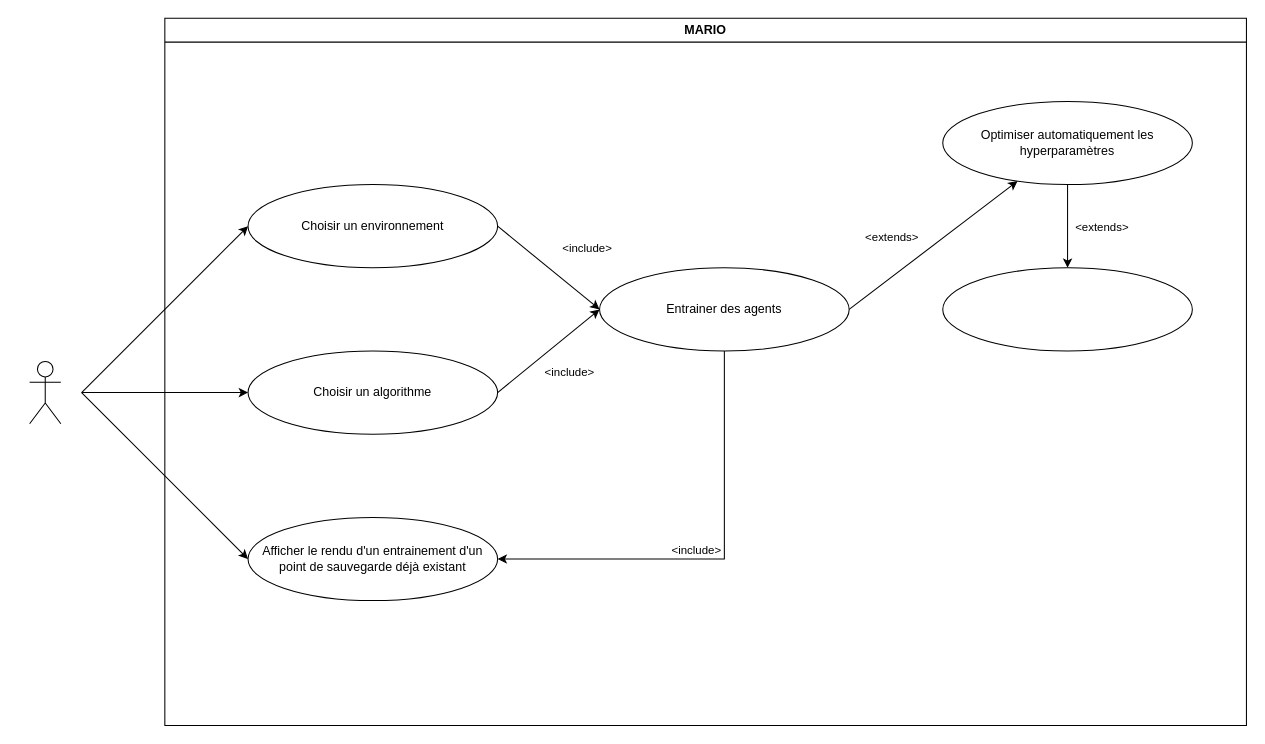
The diagram is 1265 pixels wide and 744 high, and some of its shapes have lost their labels. The centre of each missing label's shape, as x and y in pixels:
Parralléliser les essais: the point at 1067,309
Utilisateur: the point at 45,392
